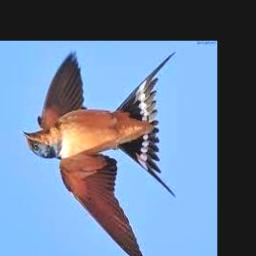Swallow: (19, 52, 176, 256)
